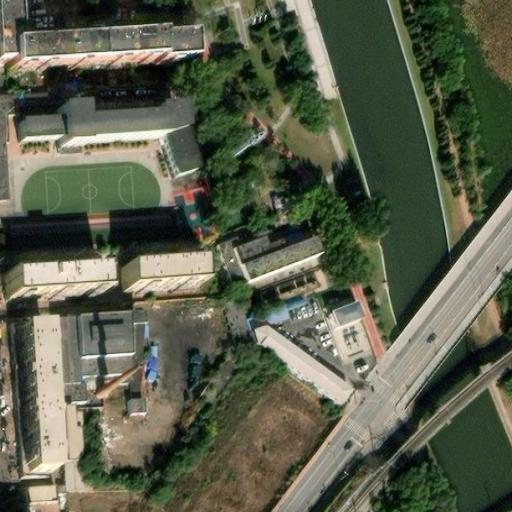building: (244, 333, 345, 412), (23, 120, 184, 165), (231, 228, 314, 294), (12, 25, 180, 57), (12, 326, 48, 466), (73, 324, 141, 378), (325, 312, 371, 375), (8, 267, 108, 293), (127, 262, 201, 286), (0, 97, 17, 198), (55, 322, 77, 392), (59, 410, 82, 463), (22, 483, 61, 512), (260, 300, 291, 325), (124, 394, 146, 416)
